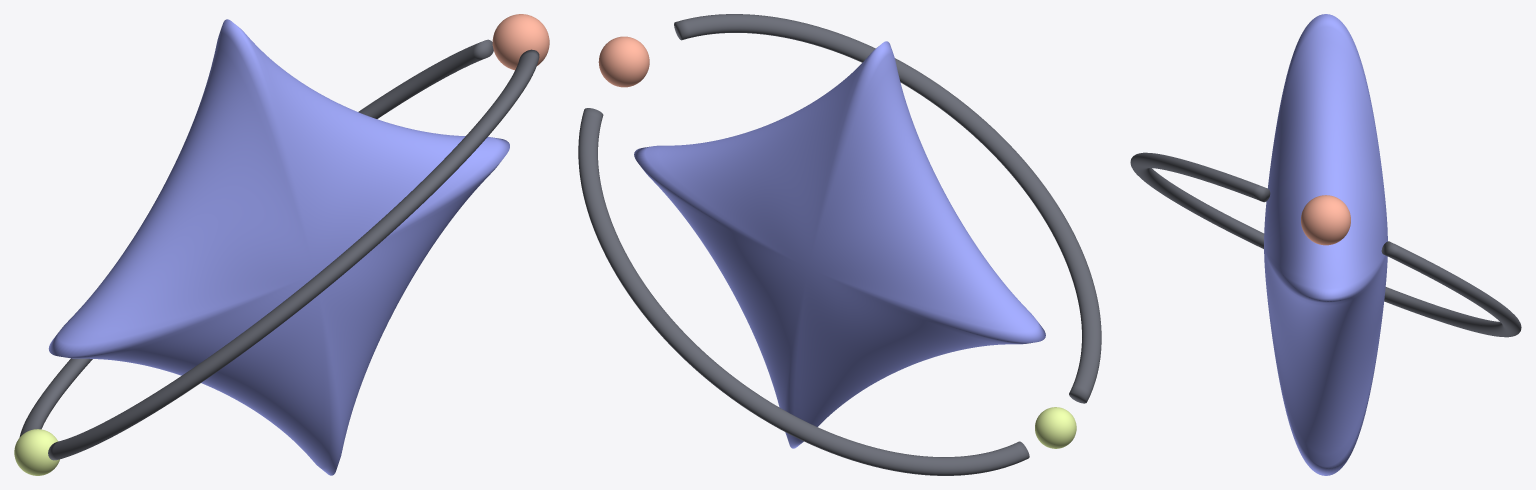
The model's file is starr-core.glb.
3 views of the same model, side by side, from view 1: azimuth 30°, elevation 25°; view 2: azimuth 150°, elevation 25°; view 3: azimuth 270°, elevation 25° (orthographic). The views are drawn at different scales.
Parts seen in each view (by area): view 1: 01_Starr_Core, 02_Orbit_Primary, 03_Orbit_Secondary, 04_Coral_Satellite, 05_Lime_Satellite; view 2: 01_Starr_Core, 03_Orbit_Secondary, 02_Orbit_Primary, 04_Coral_Satellite, 05_Lime_Satellite; view 3: 01_Starr_Core, 03_Orbit_Secondary, 02_Orbit_Primary, 04_Coral_Satellite.
Part boxes in pixels (left/top/right/bottom): 01_Starr_Core: left=48, top=19, right=509, bottom=475; 02_Orbit_Primary: left=48, top=49, right=539, bottom=460; 03_Orbit_Secondary: left=19, top=39, right=493, bottom=437; 04_Coral_Satellite: left=492, top=14, right=549, bottom=70; 05_Lime_Satellite: left=14, top=429, right=59, bottom=475; 01_Starr_Core: left=634, top=41, right=1045, bottom=448; 03_Orbit_Secondary: left=578, top=108, right=1029, bottom=475; 02_Orbit_Primary: left=674, top=14, right=1101, bottom=403; 04_Coral_Satellite: left=598, top=36, right=649, bottom=87; 05_Lime_Satellite: left=1035, top=407, right=1076, bottom=448; 01_Starr_Core: left=1264, top=14, right=1387, bottom=475; 03_Orbit_Secondary: left=1381, top=241, right=1521, bottom=337; 02_Orbit_Primary: left=1130, top=152, right=1270, bottom=248; 04_Coral_Satellite: left=1301, top=195, right=1350, bottom=245.
Bounding box in the file's own units: 2.99 × 2.58 × 2.18.
